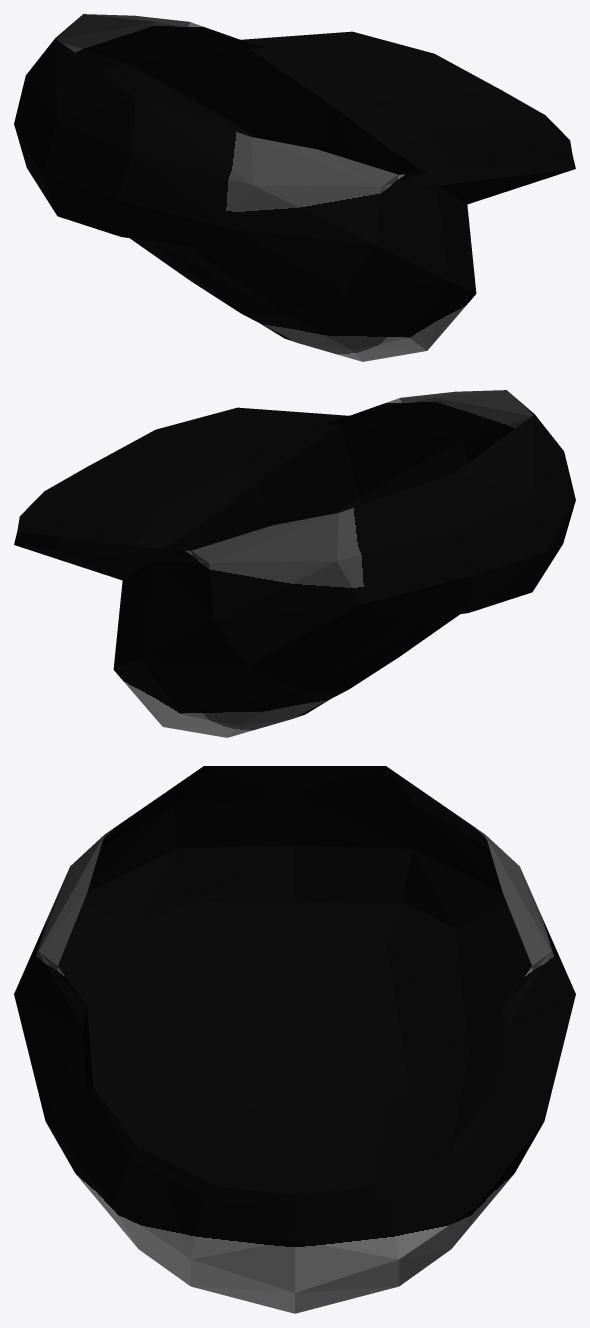
Rendered from ma_cap1.obj.
The picture shows the model from 3 angles, top to bottom: view 1: azimuth 30°, elevation 25°; view 2: azimuth 150°, elevation 25°; view 3: azimuth 270°, elevation 25°; orthographic projection. The views are drawn at different scales.
Parts seen in each view (by area): view 1: m0_2; view 2: m0_2; view 3: m0_2.
Boxes of the visible parts, x1=… form: m0_2: x1=14, y1=14, x2=575, y2=361; m0_2: x1=14, y1=390, x2=575, y2=737; m0_2: x1=14, y1=766, x2=575, y2=1313.
Bounding box in the file's own units: 67.88 × 43.27 × 57.76.
Materials: 3 (3 with a texture image).
